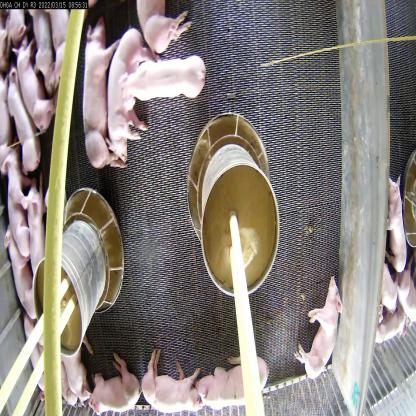Pig: (99, 42, 147, 167), (76, 27, 116, 174), (133, 336, 207, 415), (292, 277, 338, 384), (195, 352, 268, 415), (0, 131, 31, 259), (14, 51, 58, 140), (124, 62, 208, 104), (3, 82, 38, 182), (82, 356, 140, 416), (123, 0, 187, 52), (26, 178, 52, 294), (4, 232, 29, 336), (386, 172, 407, 272)
